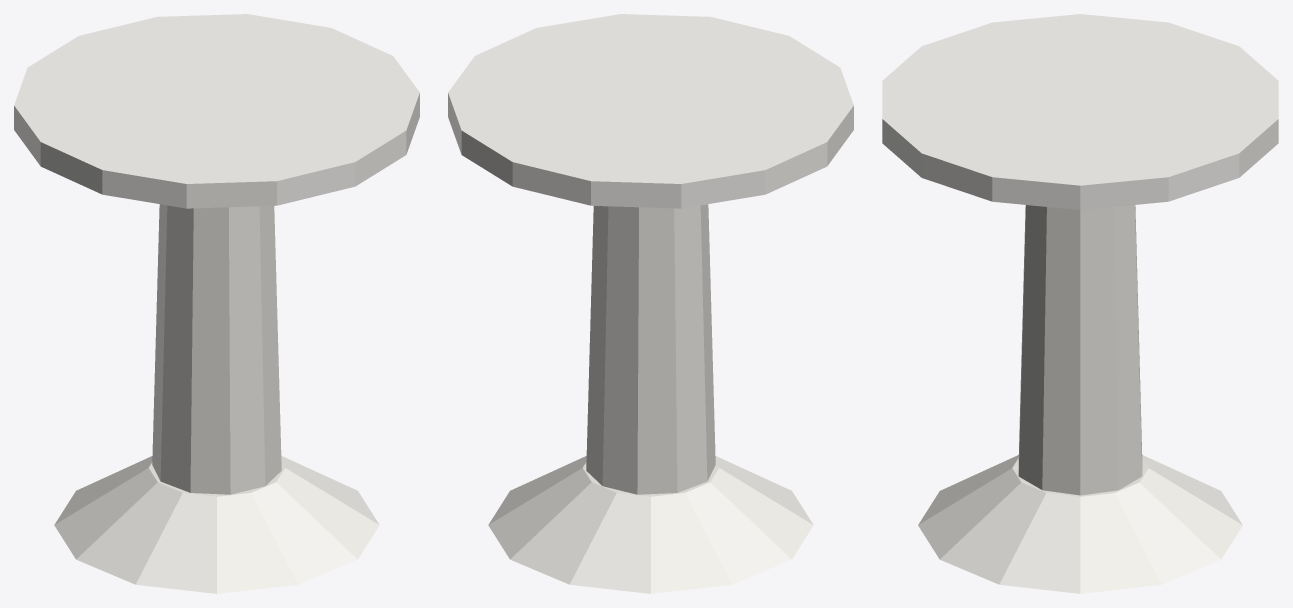
Rendered from SM_LPI_Table_Occasional_01.fbx.
The picture shows the model from 3 angles, left to right: view 1: azimuth 30°, elevation 25°; view 2: azimuth 150°, elevation 25°; view 3: azimuth 270°, elevation 25°; orthographic projection.
Parts seen in each view (by area): view 1: SM_LPI_Table_Occasional_01; view 2: SM_LPI_Table_Occasional_01; view 3: SM_LPI_Table_Occasional_01.
Boxes of the visible parts, left/top/right/bottom form: SM_LPI_Table_Occasional_01: left=14, top=14, right=419, bottom=593; SM_LPI_Table_Occasional_01: left=448, top=14, right=853, bottom=593; SM_LPI_Table_Occasional_01: left=882, top=14, right=1278, bottom=593.
Size of the model in its own units: 0.45 by 0.52 by 0.4387.
